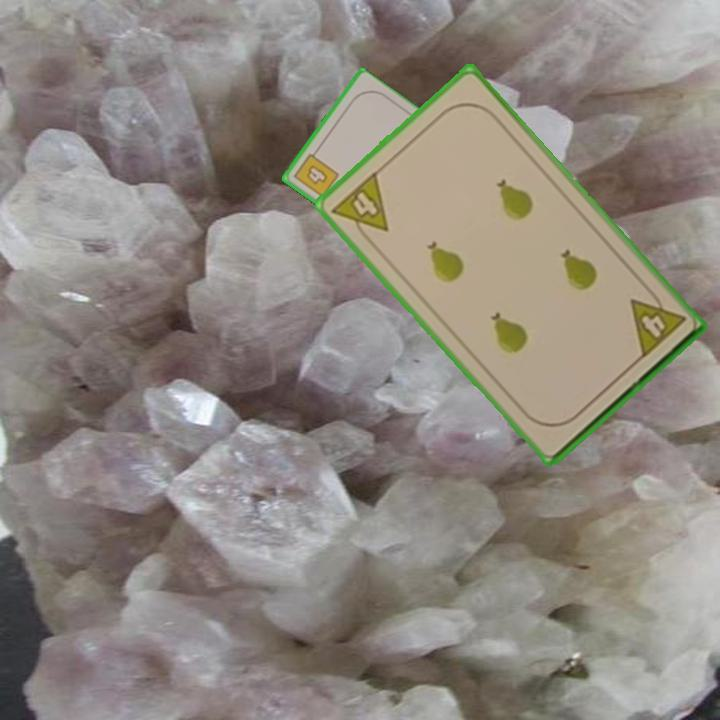4b: (290, 146, 342, 201)
4p: (327, 167, 392, 248), (626, 283, 688, 362)
